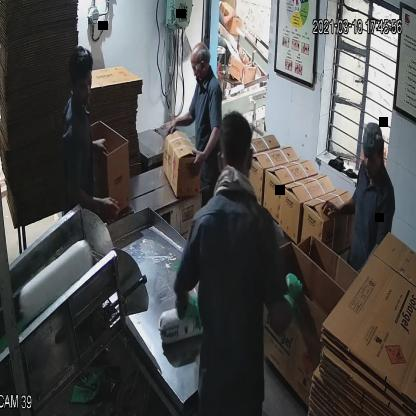no_glove: (59, 160, 122, 230), (190, 118, 228, 174), (163, 97, 201, 144), (315, 189, 360, 228)
